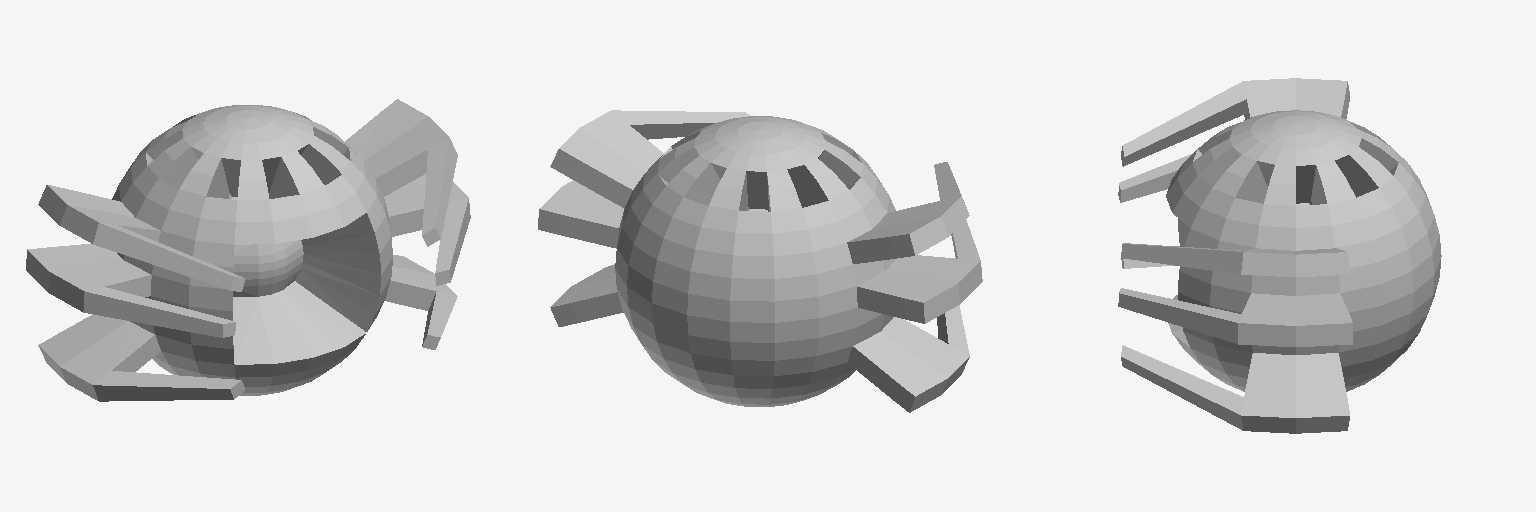
File: FireBoss.obj
3 views of the same model, side by side, from view 1: azimuth 30°, elevation 25°; view 2: azimuth 150°, elevation 25°; view 3: azimuth 270°, elevation 25° (orthographic).
Visible parts, largest first — view 1: pSphere1; view 2: pSphere1; view 3: pSphere1.
Part boxes in pixels (left/top/right/bottom): pSphere1: left=26, top=99, right=470, bottom=401; pSphere1: left=538, top=110, right=982, bottom=412; pSphere1: left=1118, top=78, right=1441, bottom=433.
Bounding box in the file's own units: 3.16 × 2 × 2.22.